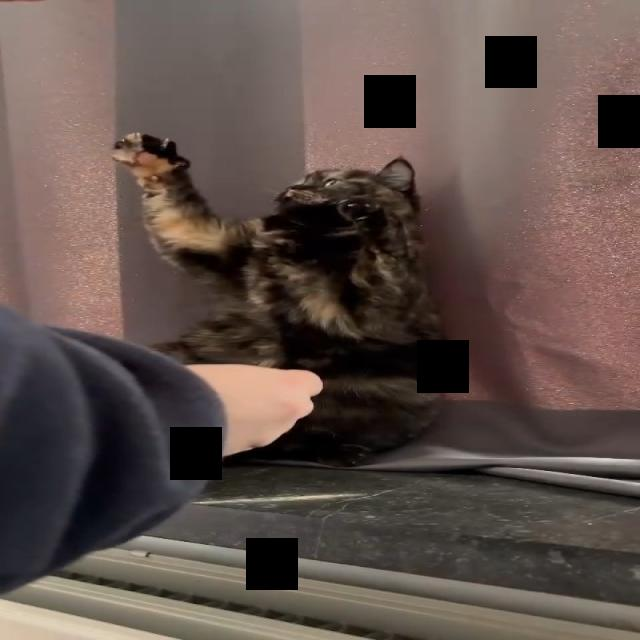authorized: (111, 130, 449, 468)
